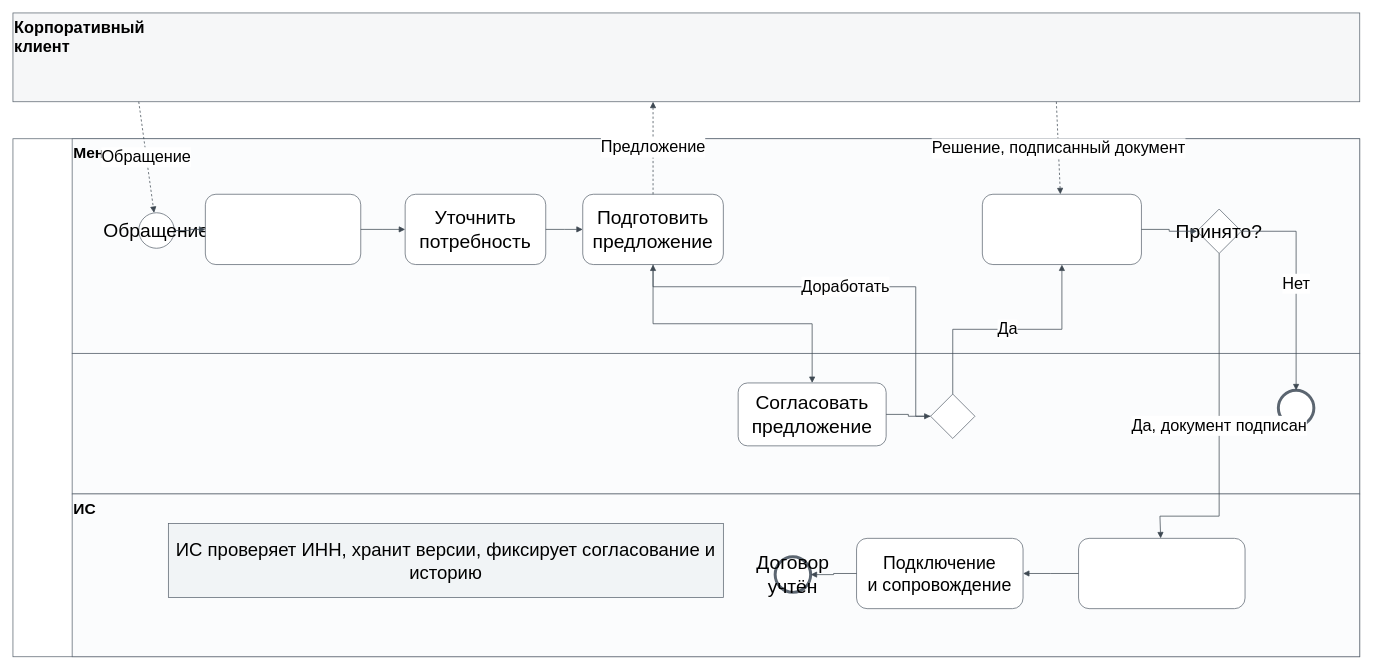
Some shapes in this 1373 by 670 pixel diagram are drawn without their labels. The shapes that lost their labels are listed below. From the top down, each one's box as (x1, y1, x2, y2) in pixels, then its label:
(205, 194, 361, 265): Зарегистрировать клиента и сделку
(982, 194, 1141, 265): Зафиксировать решение клиента
(71, 353, 1360, 494): Руководитель
(930, 393, 975, 438): Согласовано?
(1276, 388, 1315, 427): Отказ клиента
(1078, 538, 1245, 609): Учесть подписанный вне ИС договор
